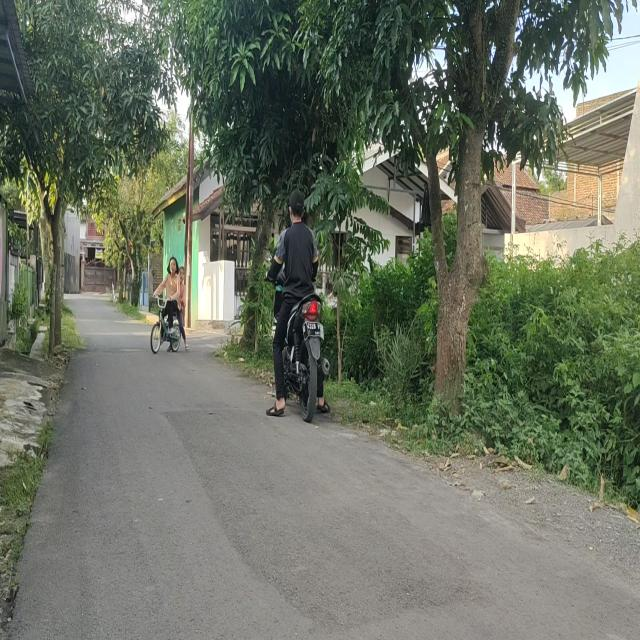no-helmet: (290, 189, 304, 219)
